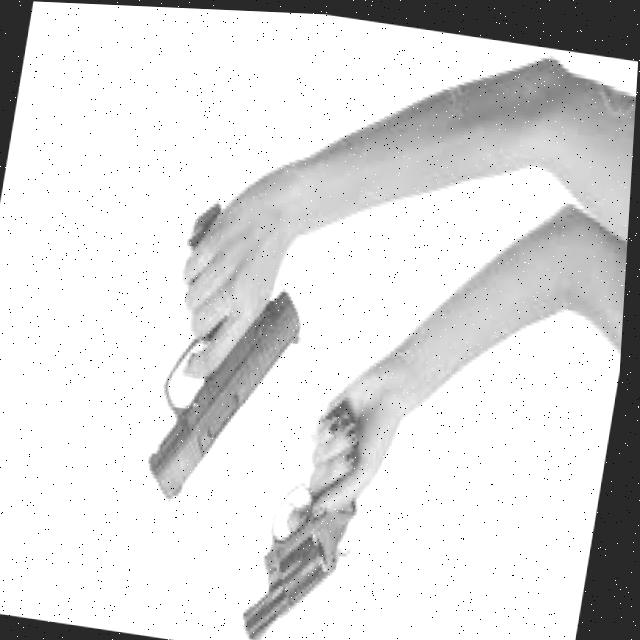pistol: (143, 267, 313, 524), (242, 471, 369, 640)
